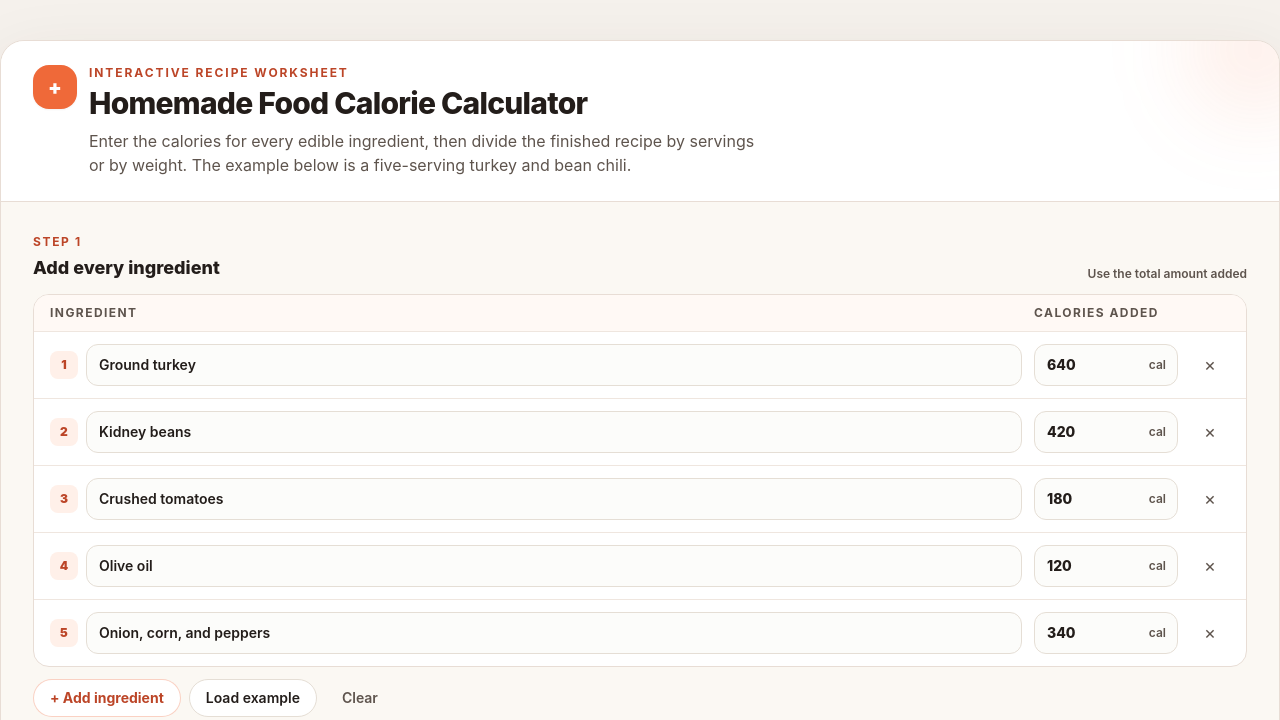
Test: HomemadeRecipeCalorieCalculator › adds and removes ingredient rows
The width and height of the screenshot is (1280, 720).
Expected: the number of buttons named "remove ingredient" is 5, [1190, 345, 1230, 385]; [1190, 412, 1230, 452]; [1190, 479, 1230, 519]; [1190, 546, 1230, 586]; [1190, 613, 1230, 653]
Click the button "+ Add ingredient". click: (107, 698)
box: [33, 679, 181, 717]
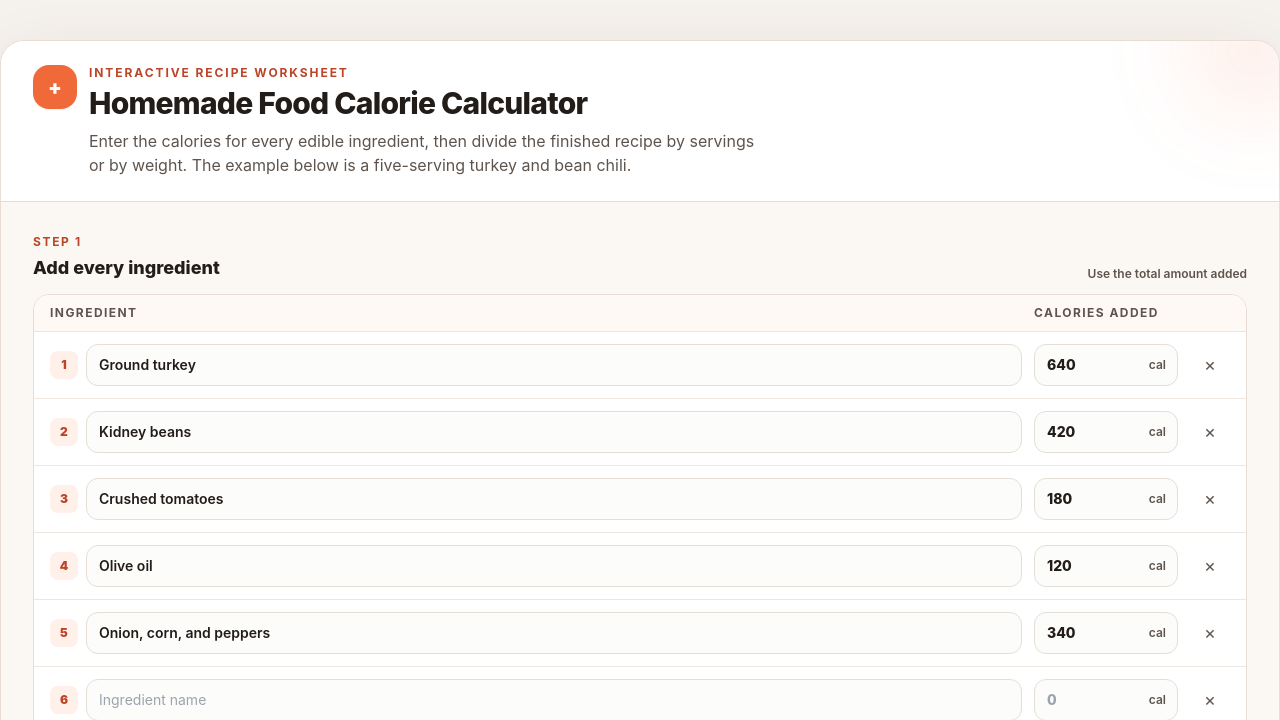
Now the number of buttons named "remove ingredient" is 6
Now the number field named "Ingredient 6 calories" is shown, box [1034, 679, 1178, 719]
Click the button named "Remove ingredient 6". click: (1210, 700)
box: [1190, 680, 1230, 719]
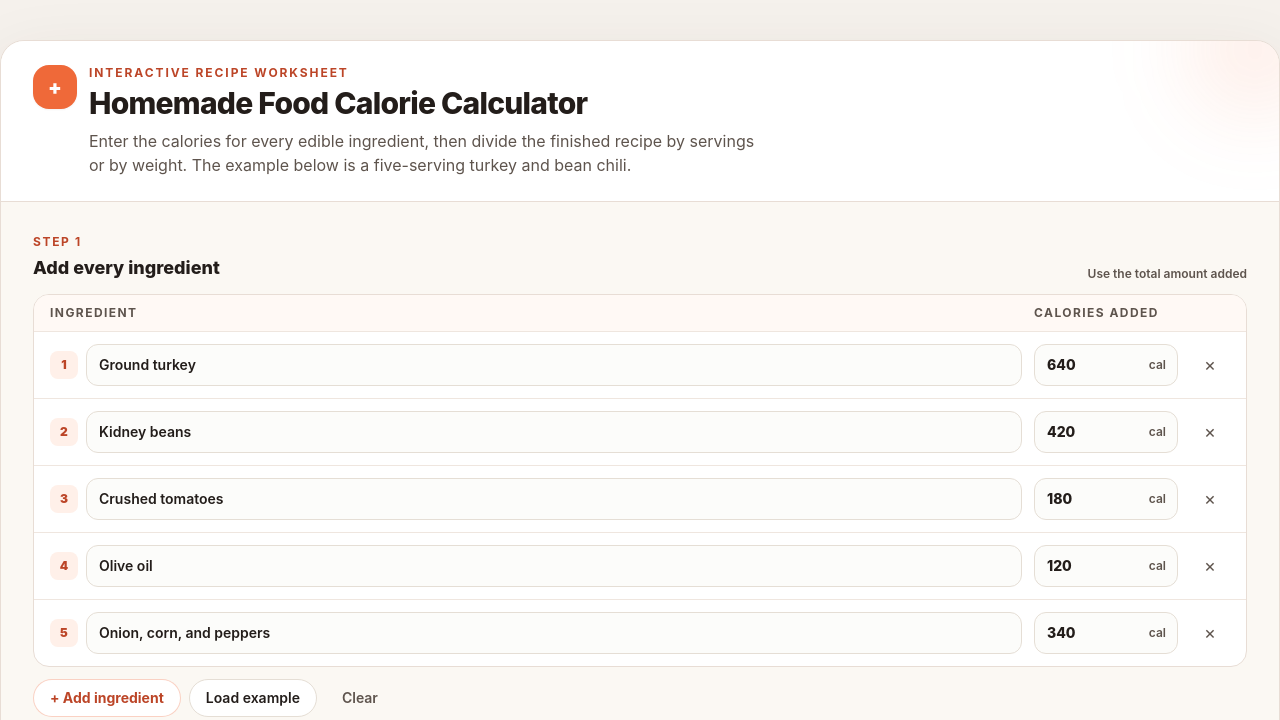
Now the number of buttons named "remove ingredient" is 5, box [1190, 345, 1230, 385]; [1190, 412, 1230, 452]; [1190, 479, 1230, 519]; [1190, 546, 1230, 586]; [1190, 613, 1230, 653]
